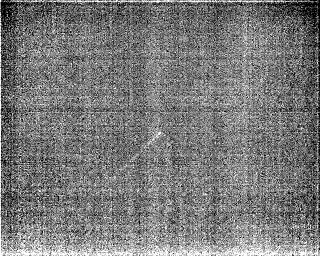AIRPLANE: (112, 132, 164, 180)
